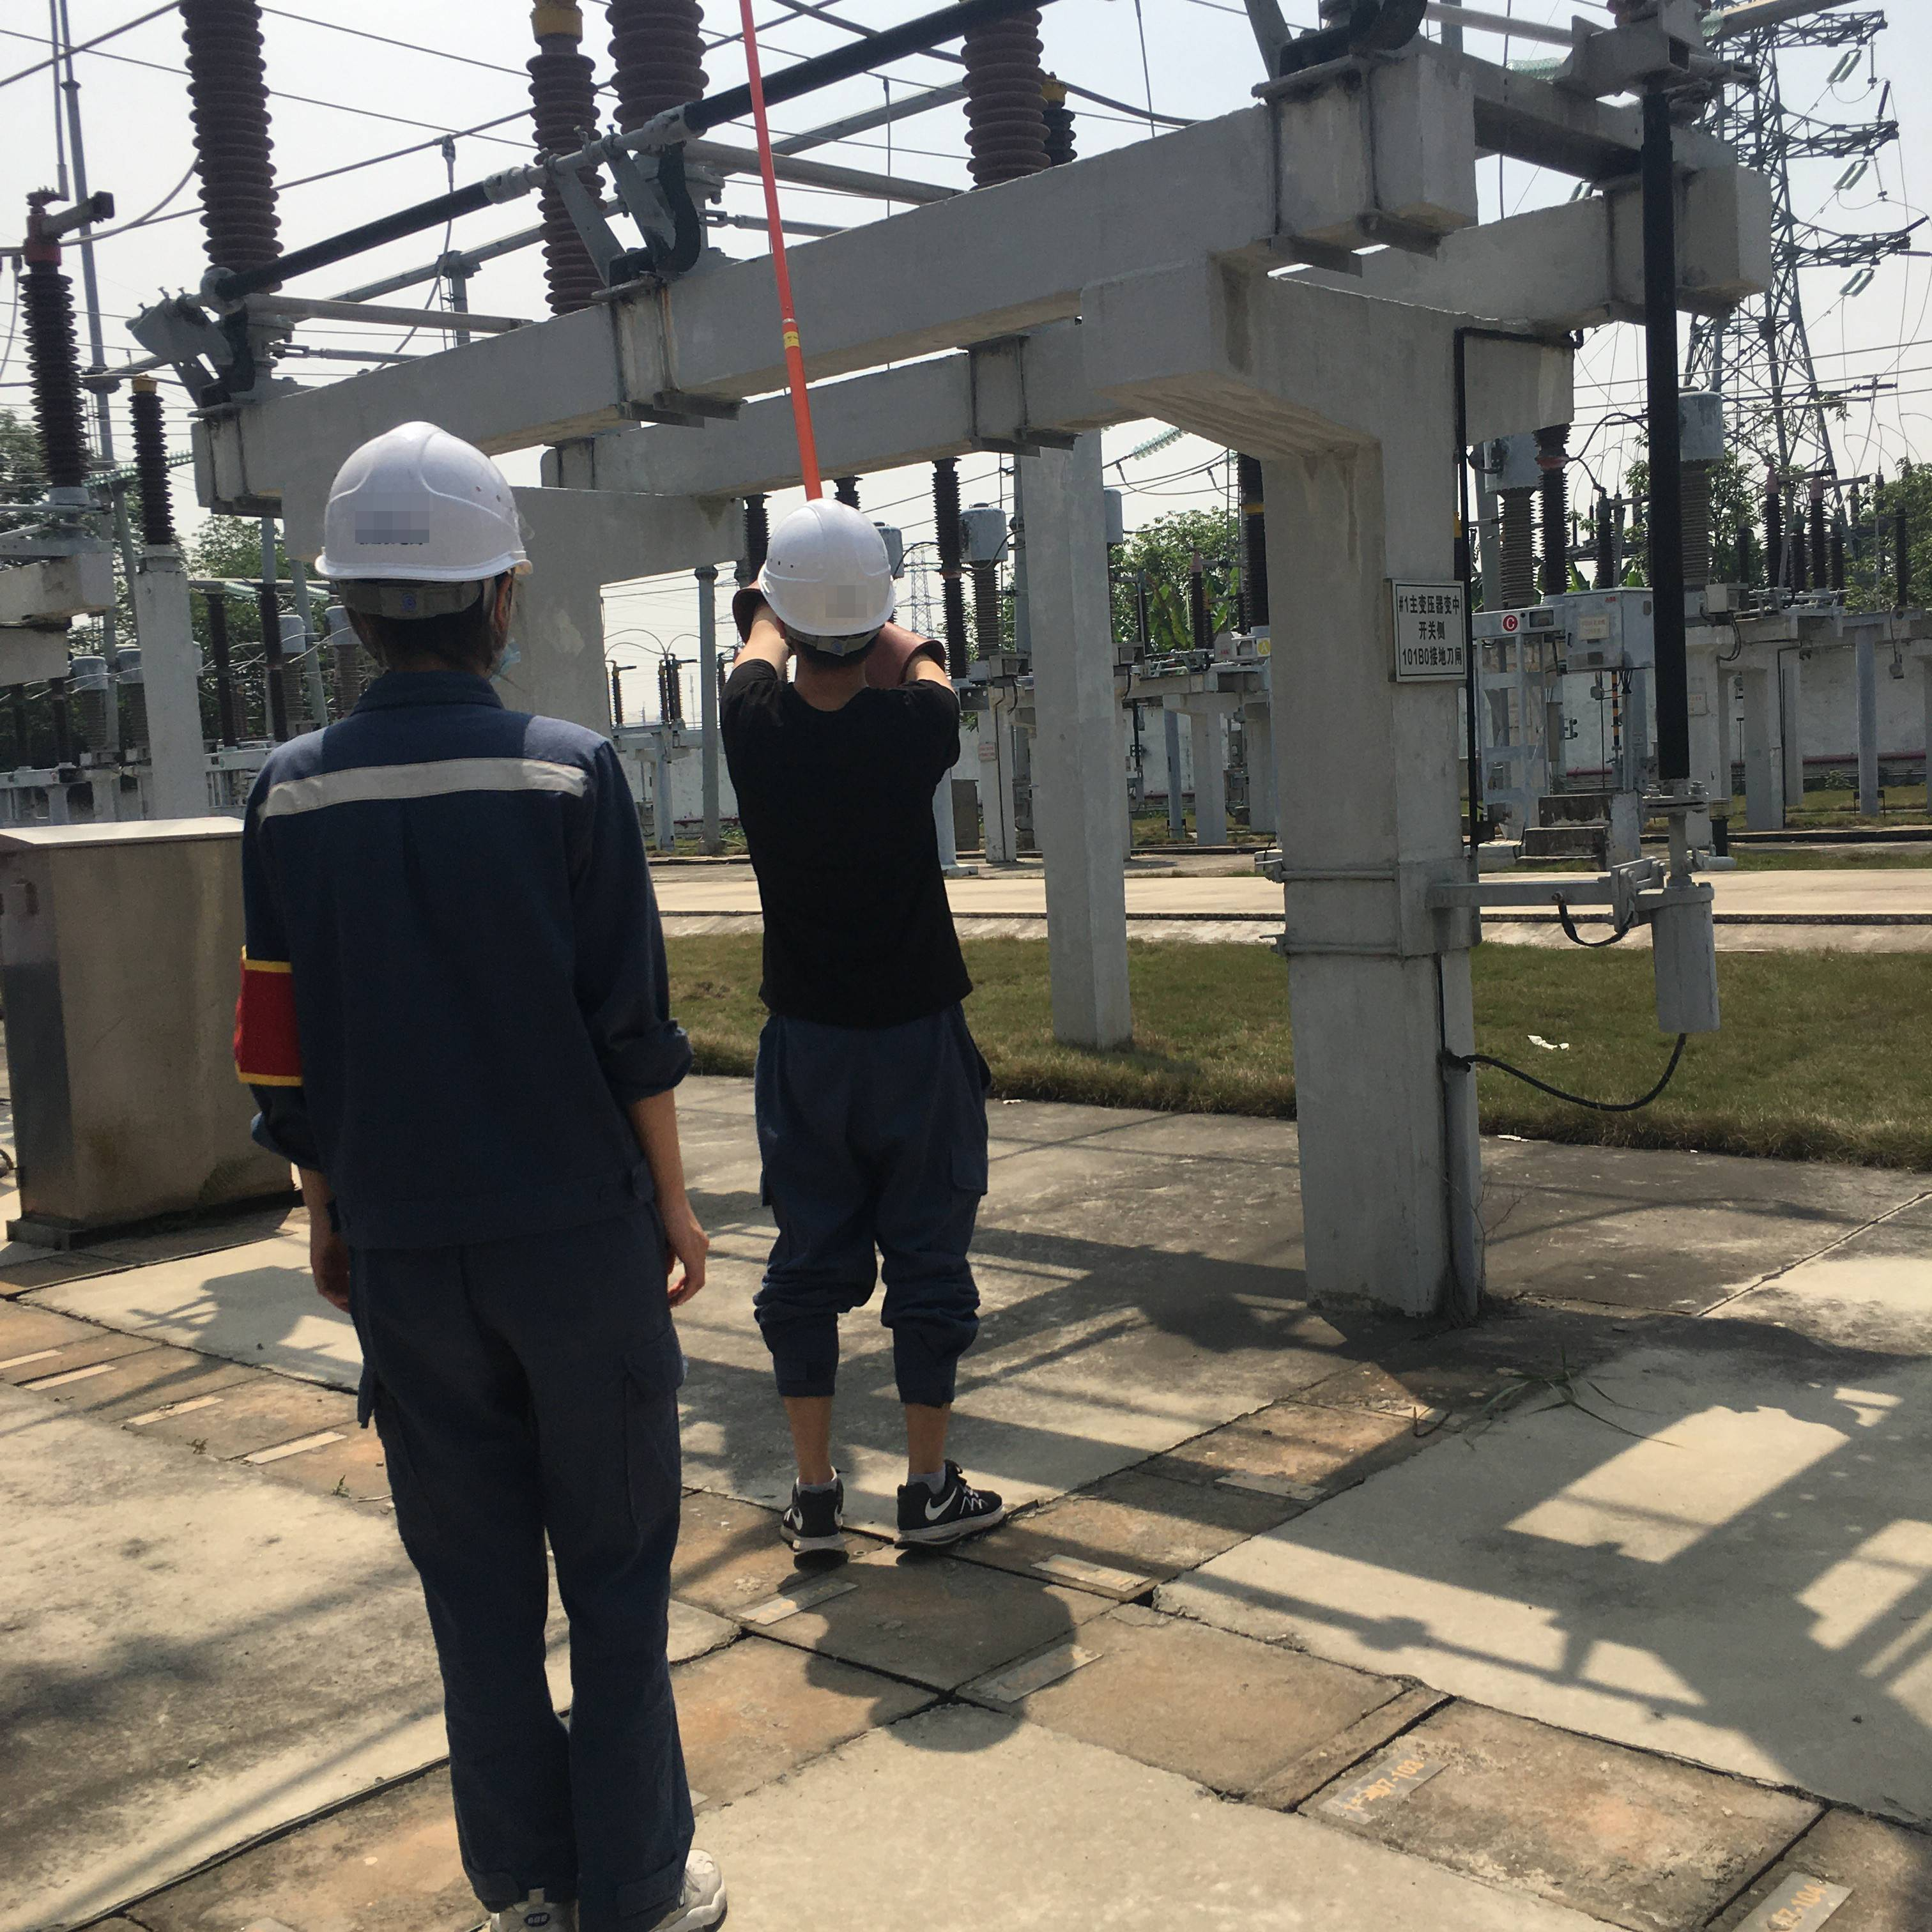downsuit: (341, 1261, 709, 1909), (752, 1010, 996, 1408)
upcloth: (722, 662, 973, 1019)
upsuit: (235, 672, 695, 1238)
wrongbottom: (770, 1336, 849, 1504), (885, 1357, 971, 1495)
wrongtop: (614, 1026, 715, 1297)
